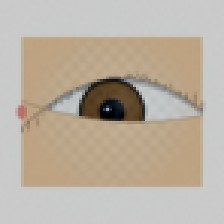hemorrhage_spot: (72, 86, 147, 146)
